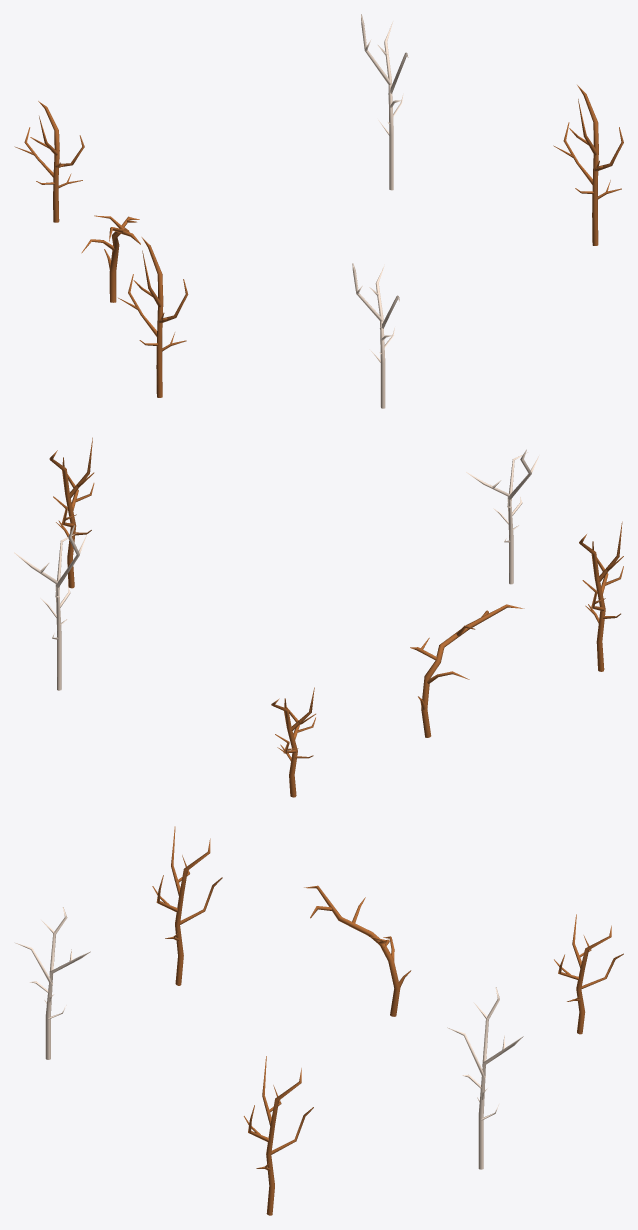
Rendered from treeTrunks.glb.
3 renders of one model, top to bottom at view 1: azimuth 30°, elevation 25°; view 2: azimuth 150°, elevation 25°; view 3: azimuth 270°, elevation 25°, orthographic. The views are drawn at different scales.
Visible parts, largest first — view 1: treeBody.012, treeBody.003, treeBody.001, treeBody.002, treeBody, treeBody.015; view 2: treeBody.012, treeBody.003, treeBody.015, treeBody.002, treeBody.001, treeBody; view 3: treeBody.012, treeBody.003, treeBody.002, treeBody.015, treeBody, treeBody.001.
Boxes of the visible parts, box(x1,y1,x2,y2) form: treeBody.012: box(118, 237, 188, 397); treeBody.003: box(553, 85, 623, 245); treeBody.001: box(14, 101, 84, 222); treeBody.002: box(361, 14, 408, 190); treeBody: box(352, 263, 399, 408); treeBody.015: box(81, 215, 140, 302); treeBody.012: box(579, 521, 623, 671); treeBody.003: box(49, 437, 94, 588); treeBody.015: box(410, 604, 524, 737); treeBody.002: box(14, 525, 87, 690); treeBody.001: box(271, 687, 315, 797); treeBody: box(466, 449, 539, 584); treeBody.012: box(152, 826, 222, 985); treeBody.003: box(243, 1056, 313, 1215); treeBody.002: box(447, 987, 523, 1169); treeBody.015: box(304, 885, 411, 1016); treeBody: box(14, 907, 90, 1059); treeBody.001: box(554, 914, 623, 1034).
Size of the model in its own units: 25.33 by 8.1 by 26.03.
3 materials, 3 textured.
